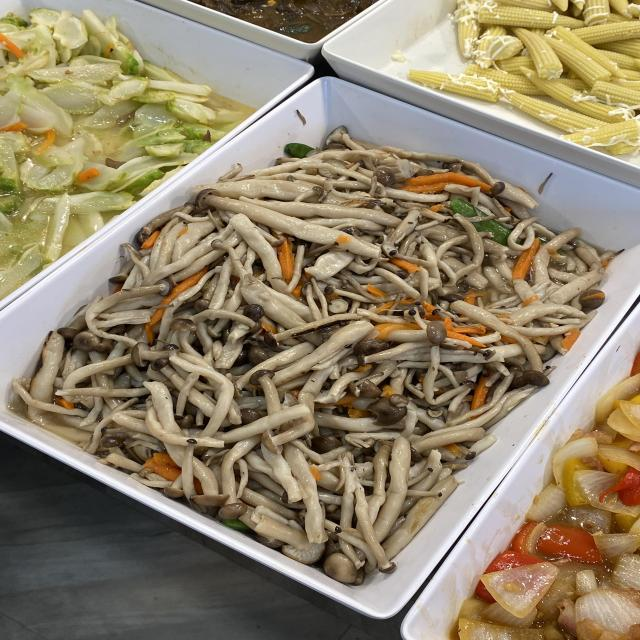brown swordbelt: (160, 214, 483, 448)
